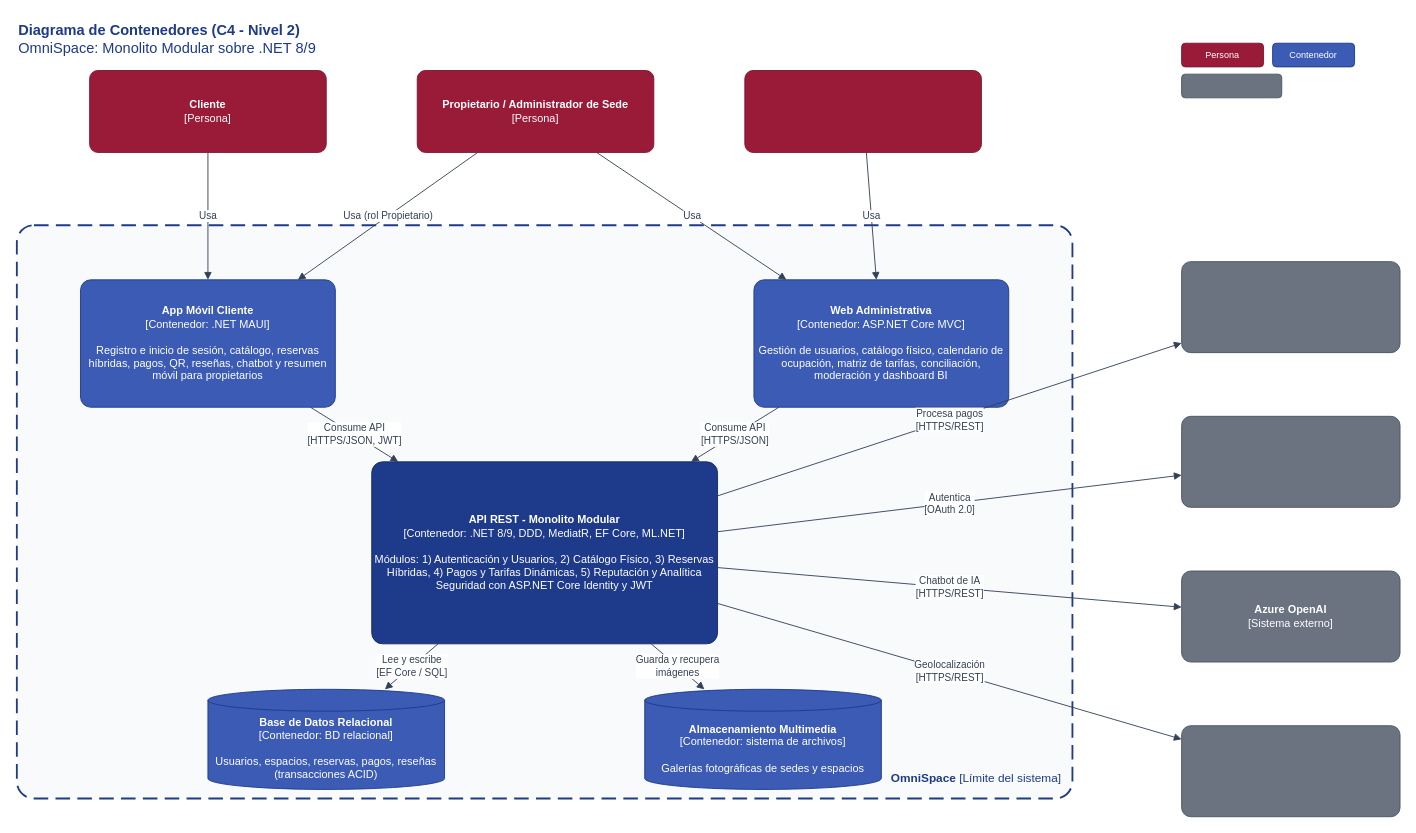
Image size: 1416x833. Some labels were removed from this diagram. The centre of each missing label's shape, as x and y in pixels:
"Administrador del Sistema [Persona]" belongs at point 862,111.
"Pasarela de Pago [Sistema externo]" belongs at point 1290,307.
"Proveedor OAuth 2.0 [Sistema externo]" belongs at point 1290,461.
"Servicio de Mapas [Sistema externo]" belongs at point 1290,771.
"Sistema externo" belongs at point 1231,85.
